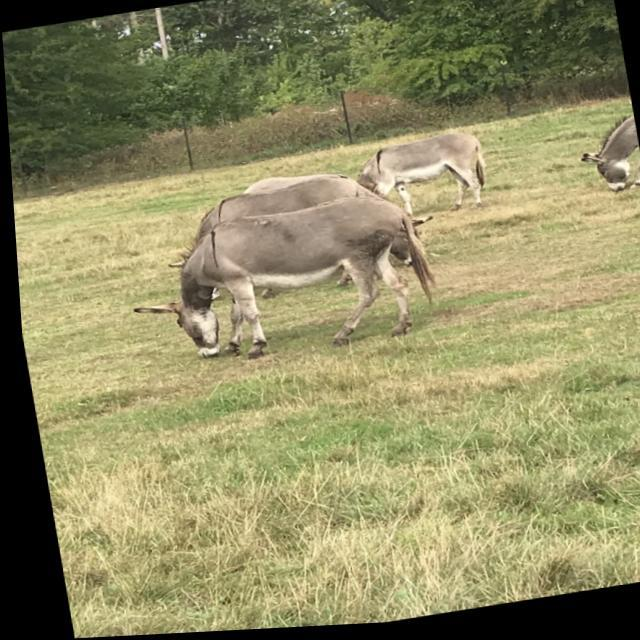Donkey: (114, 188, 444, 380), (152, 172, 375, 316), (237, 156, 438, 293), (346, 132, 491, 231), (570, 119, 640, 204)
